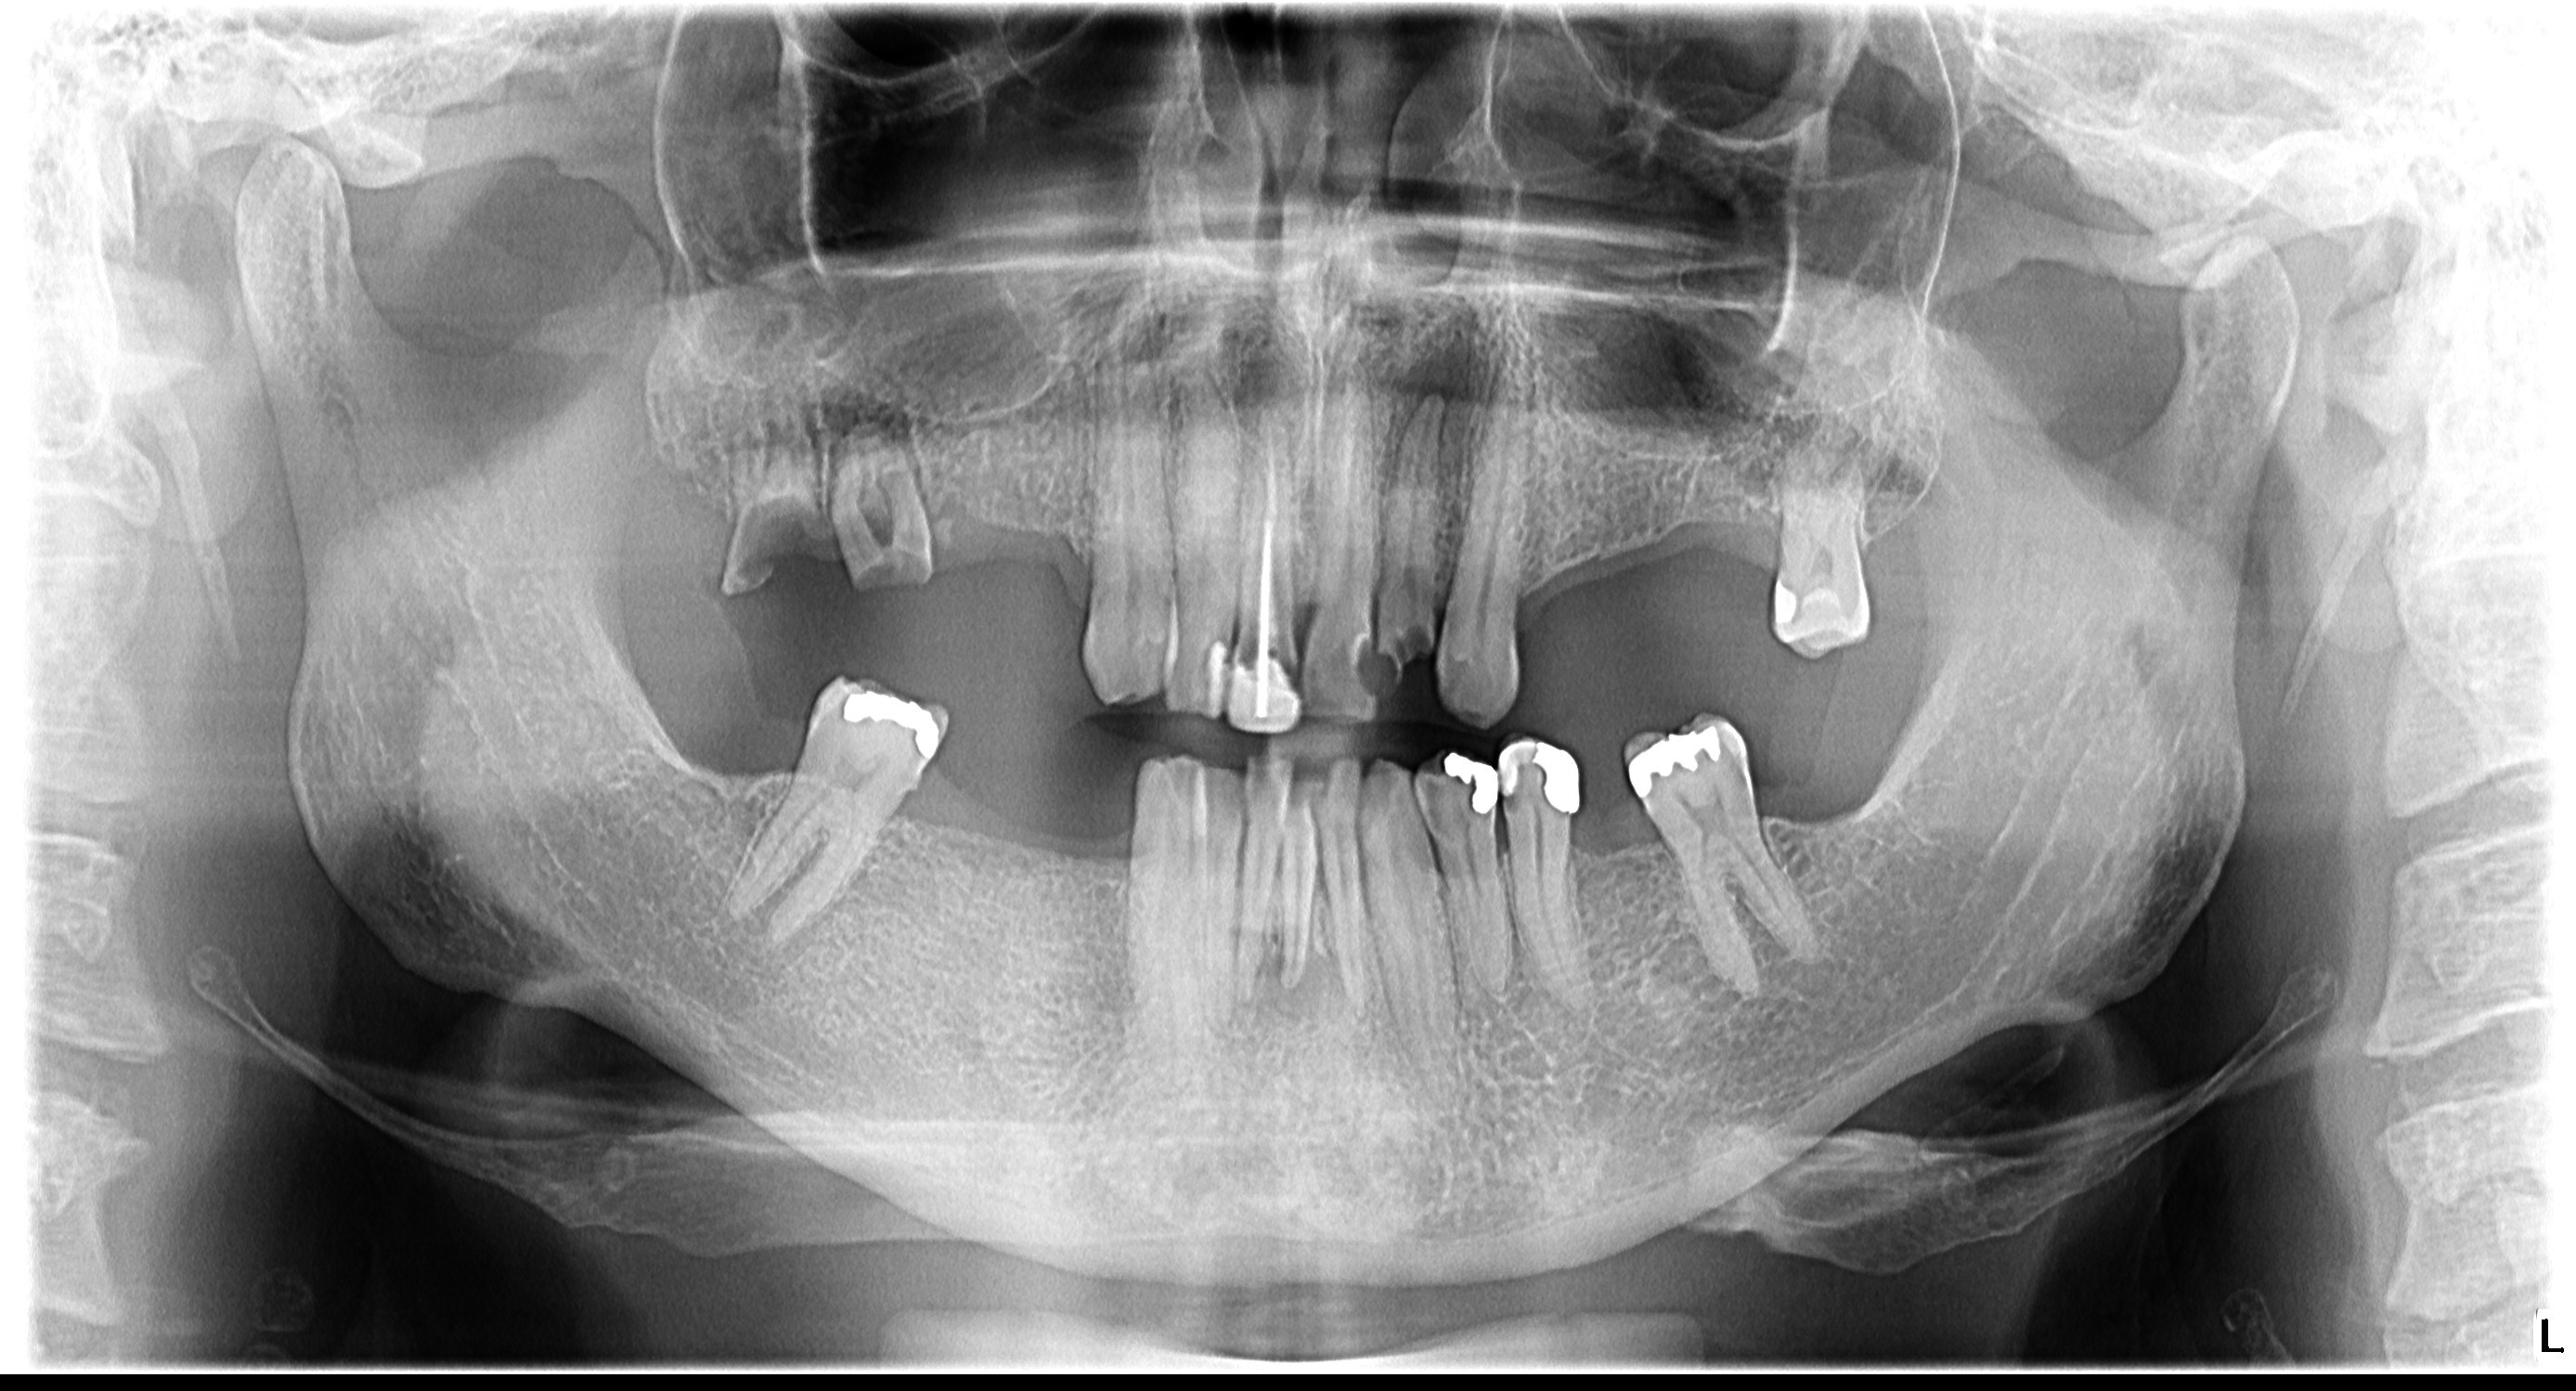API: (810, 377, 916, 452), (1255, 937, 1335, 1036)
END: (1248, 411, 1292, 646)
IMP: (839, 675, 959, 755), (1623, 714, 1724, 802), (1229, 646, 1299, 738), (1523, 733, 1587, 812), (1784, 589, 1855, 658), (1436, 743, 1496, 815), (1205, 639, 1238, 725), (1498, 723, 1525, 803), (1770, 567, 1799, 620)
OBT: (733, 476, 816, 603), (1369, 625, 1429, 694), (1410, 761, 1455, 839), (1282, 764, 1318, 831), (1340, 630, 1369, 707), (1434, 641, 1470, 699), (1494, 776, 1523, 824), (799, 685, 816, 726)
ROT: (825, 445, 941, 594)
